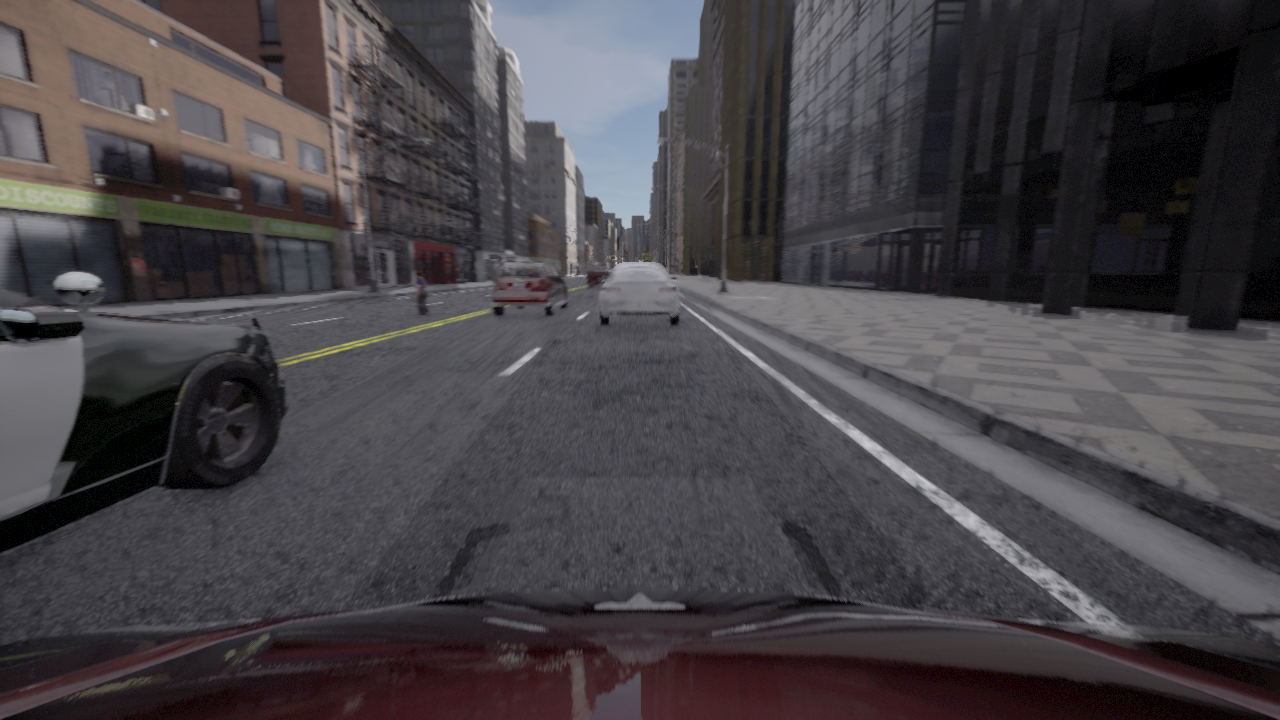cyclist: (0, 588, 1279, 719), (0, 271, 289, 554), (599, 263, 679, 325), (491, 261, 567, 315), (588, 263, 612, 287)
pedestrian: (415, 271, 427, 315)
